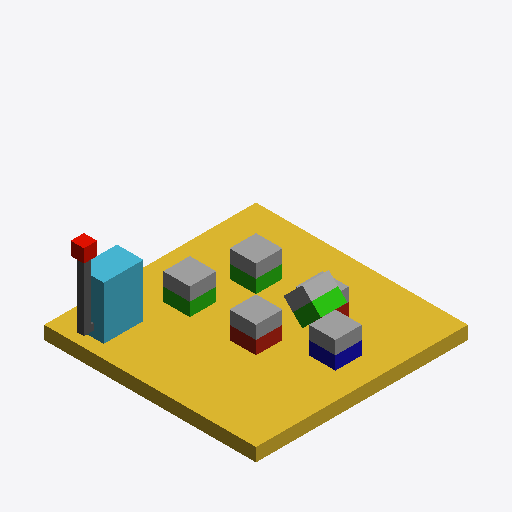
A Minecraft block model of 13 cuboids, rendered isometrically (azimuth 45°, elevation 35.3°) with the resource pack's own textures.
Visible parts, largest first — element 1, element 3, element 10, element 9, element 11, element 12, element 13, element 5, element 6.
Part boxes in pixels (x1,y1,x2,y2): element 1: (44,203,467,461); element 3: (87,245,142,343); element 10: (163,256,215,316); element 9: (309,310,361,370); element 11: (230,233,281,293); element 12: (230,295,281,354); element 13: (284,270,346,327); element 5: (77,260,90,327); element 6: (71,233,96,262).
Bounding box in the file's own units: 16 × 11 × 16.